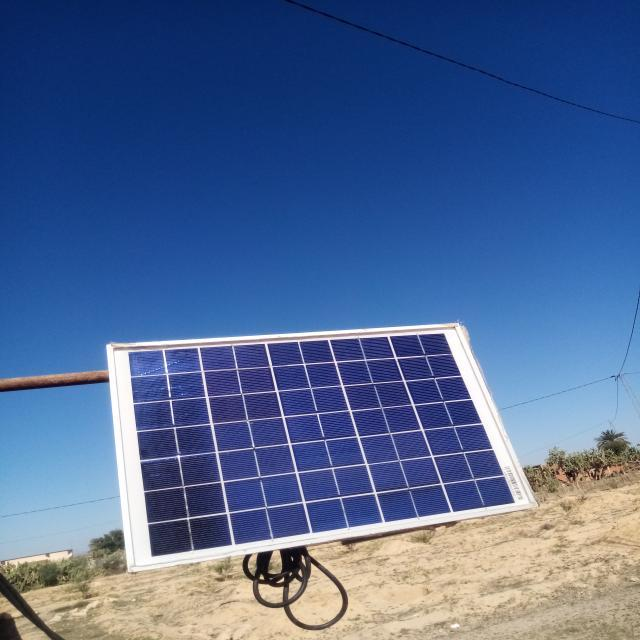no faulty: (109, 323, 533, 574)
